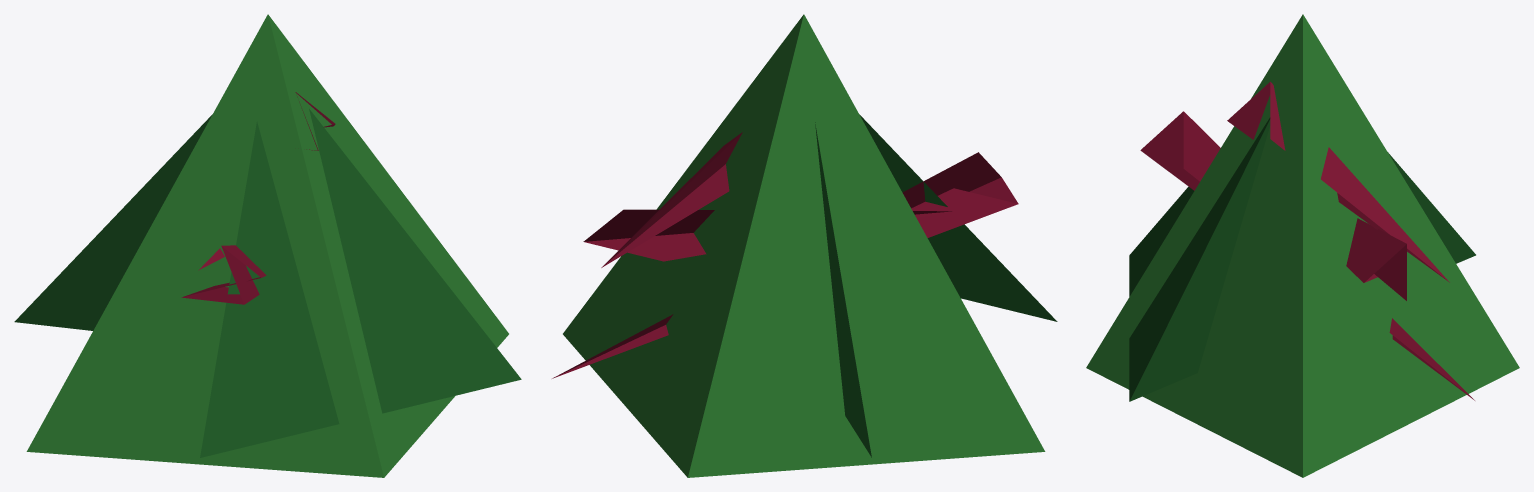
Rendered from berry-bush.obj.
3 renders of one model, left to right at view 1: azimuth 30°, elevation 25°; view 2: azimuth 150°, elevation 25°; view 3: azimuth 270°, elevation 25°, orthographic. The views are drawn at different scales.
Parts seen in each view (by area): view 1: Foliage, Berries; view 2: Foliage, Berries; view 3: Foliage, Berries.
Boxes of the visible parts, x1=… form: Foliage: x1=14, y1=14, x2=521, y2=477; Berries: x1=181, y1=92, x2=335, y2=304; Foliage: x1=563, y1=14, x2=1057, y2=477; Berries: x1=552, y1=132, x2=1018, y2=378; Foliage: x1=1086, y1=14, x2=1519, y2=477; Berries: x1=1140, y1=81, x2=1474, y2=400.
Bounding box in the file's own units: 2.4 × 1.8 × 2.
